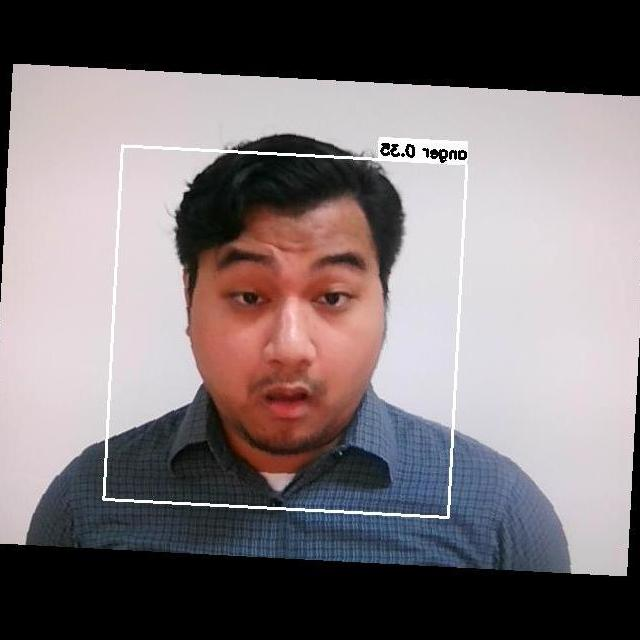Surprised: (194, 225, 386, 444)
